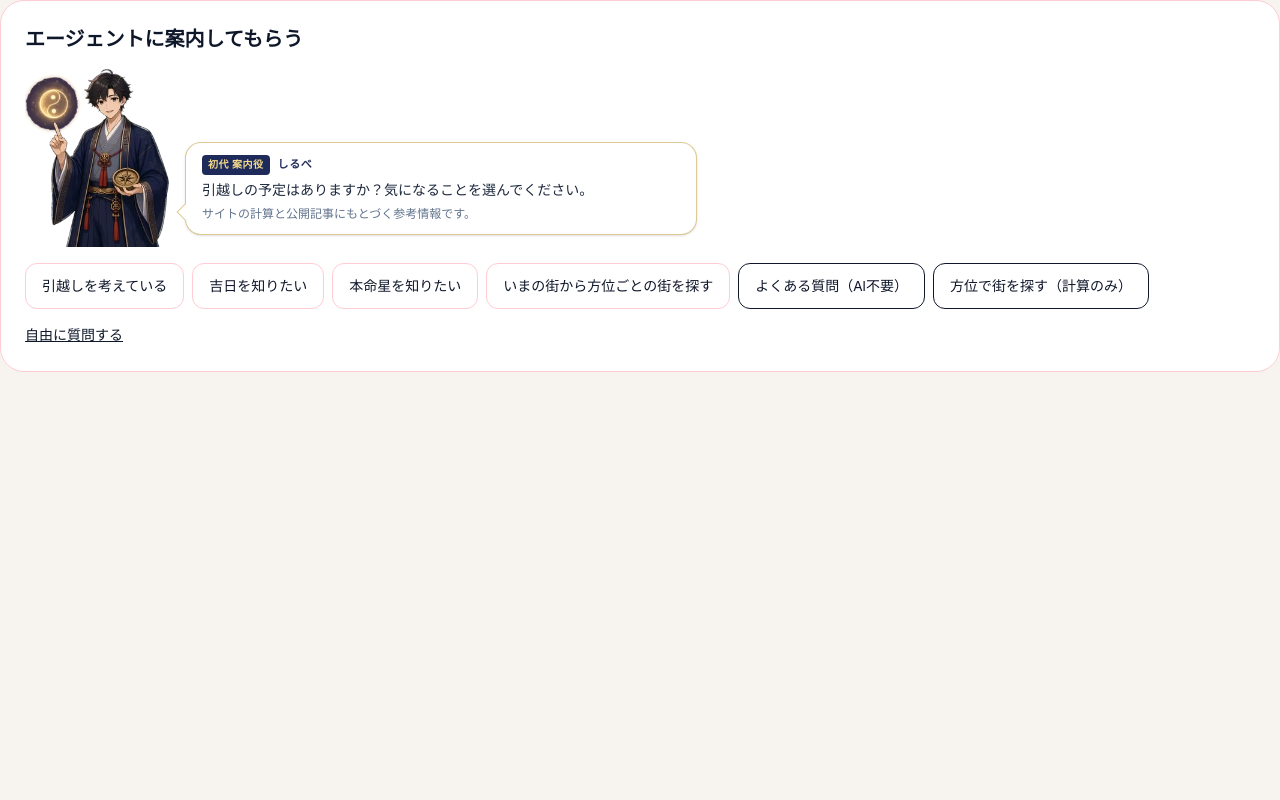
Test: ホームは入力欄やチャットJSを持たず、固定選択肢で会話を始める
Click the button "よくある質問（AI不要）".
click(832, 286)  # box [738,263,925,309]
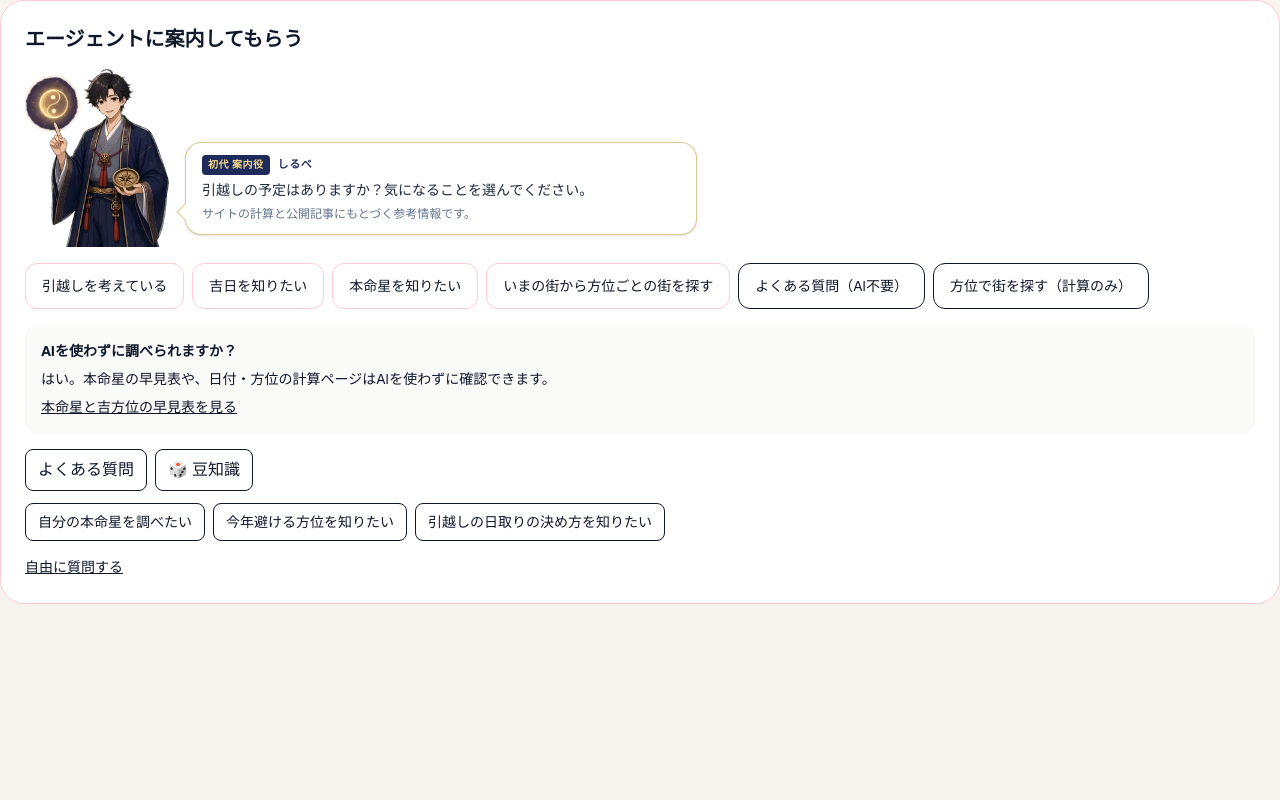
Check: the text "AIを使わずに調べられますか？" is shown, box [41,342,237,360]
